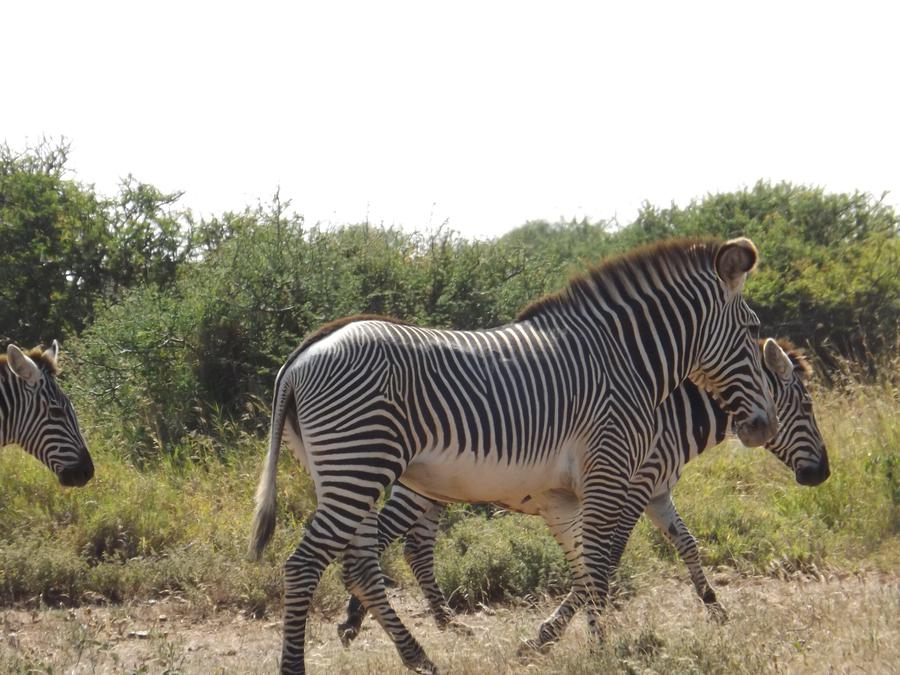zebra_grevys: (270, 298, 635, 476)
